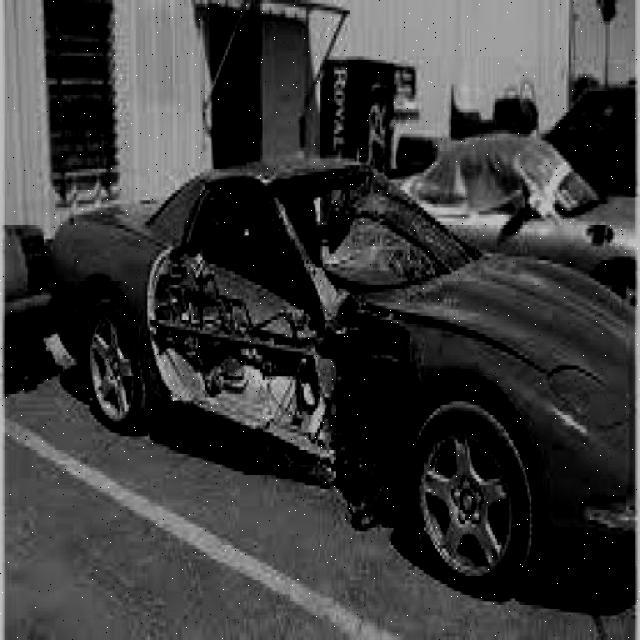car damage: (148, 172, 439, 512)
